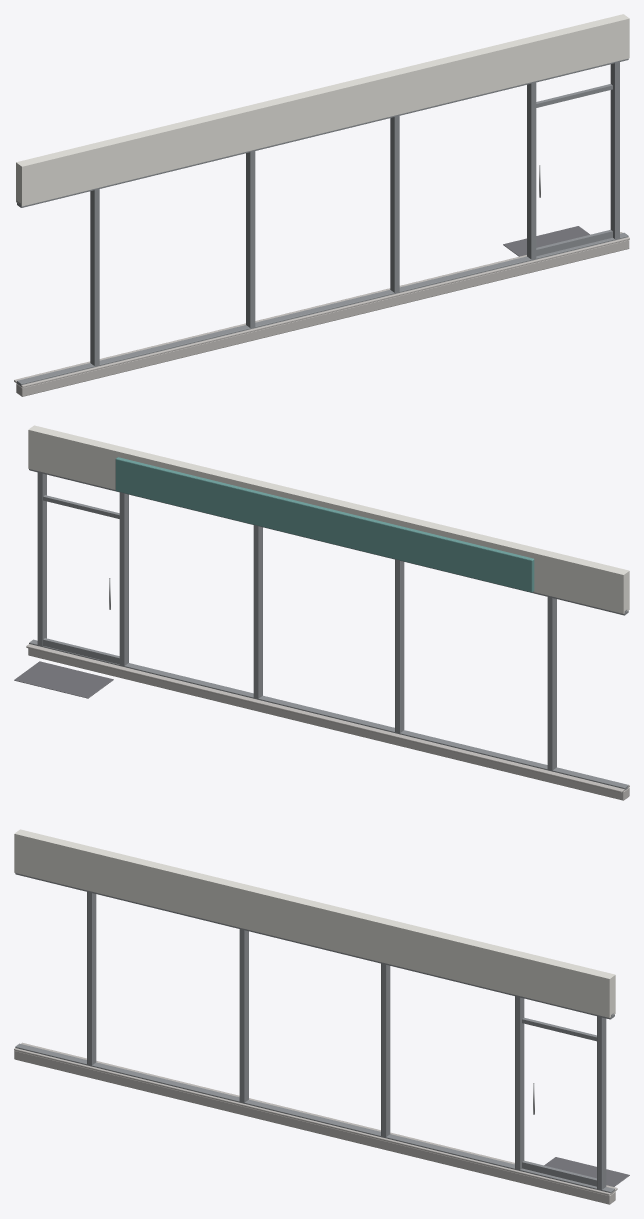
Rendered from clinic_front.glb.
The picture shows the model from 3 angles, top to bottom: view 1: azimuth 30°, elevation 25°; view 2: azimuth 150°, elevation 25°; view 3: azimuth 330°, elevation 25°; orthographic projection. The views are drawn at different scales.
Parts seen in each view (by area): view 1: clinic_front; view 2: clinic_front; view 3: clinic_front.
Boxes of the visible parts, x1,y1,x2,y2 form: clinic_front: [14, 14, 629, 396]; clinic_front: [14, 425, 629, 800]; clinic_front: [14, 829, 629, 1204].
Size of the model in its own units: 8 by 2.9 by 0.83.
